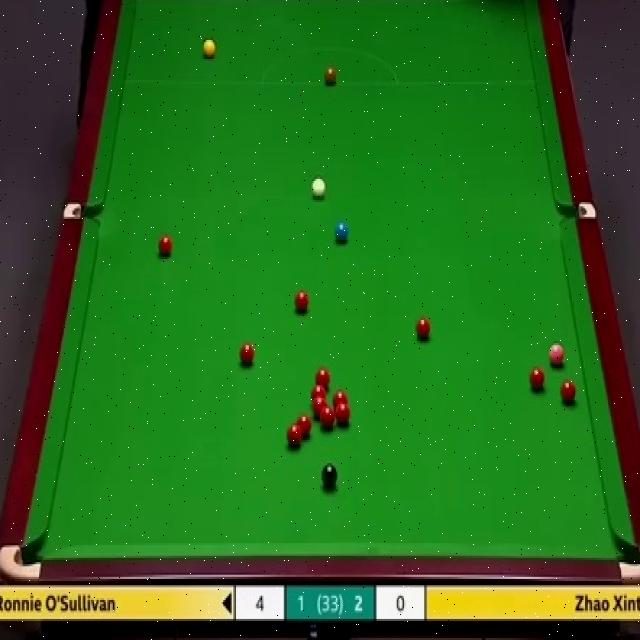black-ball: (321, 461, 338, 492)
blue-ball: (334, 220, 349, 242)
brown-ball: (324, 65, 337, 86)
pink-ball: (548, 341, 565, 368)
red-ball: (238, 341, 256, 369), (285, 424, 303, 450), (530, 366, 548, 392), (297, 416, 314, 442), (416, 316, 432, 342), (560, 381, 578, 404), (335, 403, 351, 428), (294, 291, 310, 314), (158, 234, 172, 259), (320, 405, 334, 429), (314, 368, 331, 385), (312, 398, 327, 417), (311, 384, 326, 401), (333, 392, 348, 406)
white-ball: (309, 177, 325, 201)
yellow-ball: (203, 39, 217, 61)
